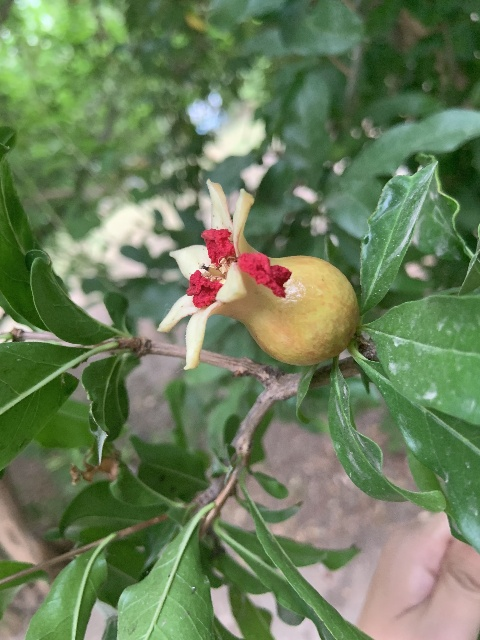early-fruit: (160, 178, 356, 370)
